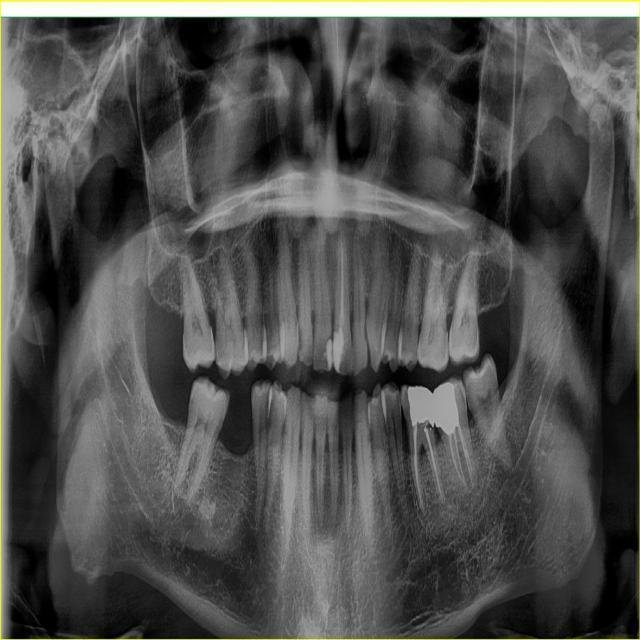Caries: (427, 424, 436, 439), (298, 325, 303, 351), (462, 390, 467, 409), (397, 394, 400, 411), (438, 427, 443, 437)
Filling: (432, 383, 459, 434), (407, 386, 437, 427), (332, 326, 344, 373), (324, 338, 333, 371)
Missing teeth: (216, 387, 254, 456)
Root Canal Treatment: (423, 427, 442, 498), (449, 427, 469, 489), (458, 423, 473, 491), (412, 427, 422, 509), (339, 225, 344, 327)
